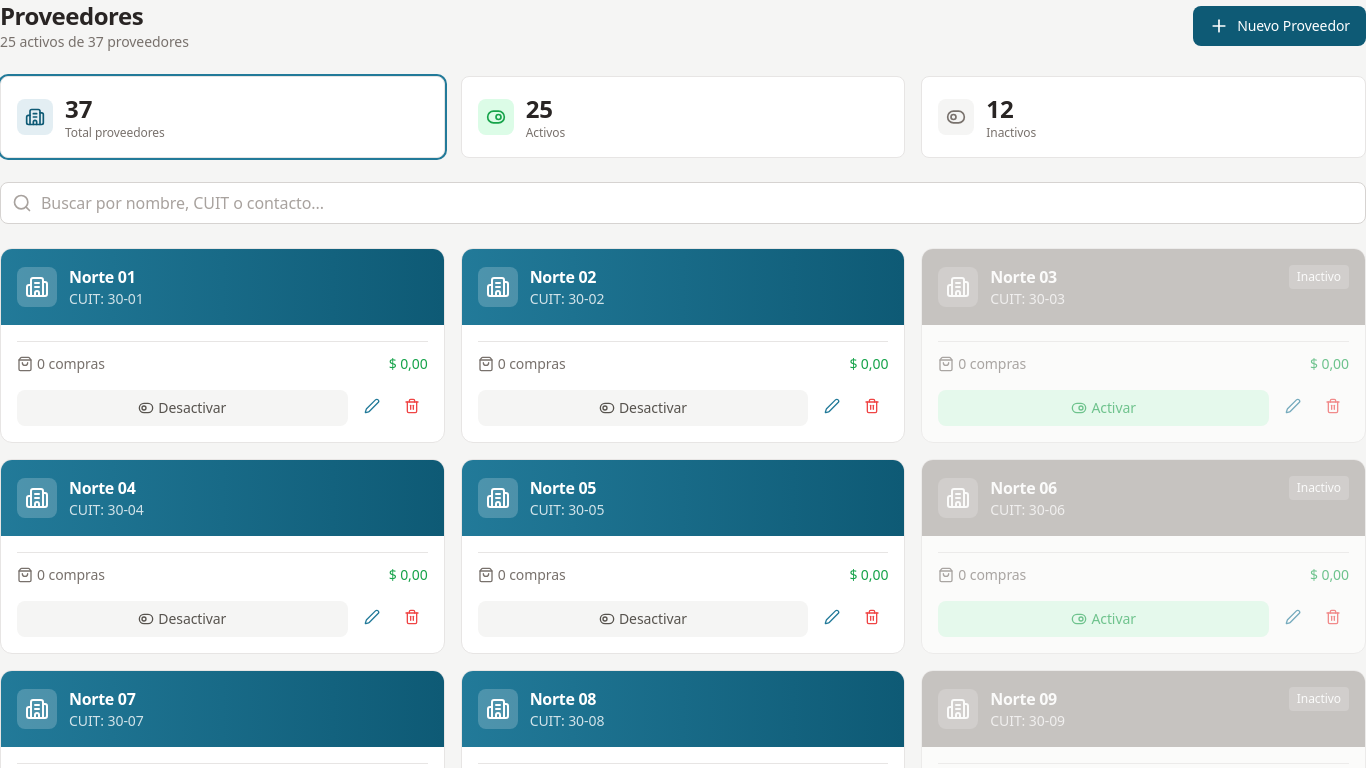
VistaProveedores — los filtros vuelven a la pagina 1 › "Total proveedores" desde la pagina 2 de otro filtro vuelve a la 1
What coordinates should you click on to do the following:
click the text "Activos"
I would click on:
 (545, 133)
Its box is [526, 125, 565, 141].
(page scrolled)
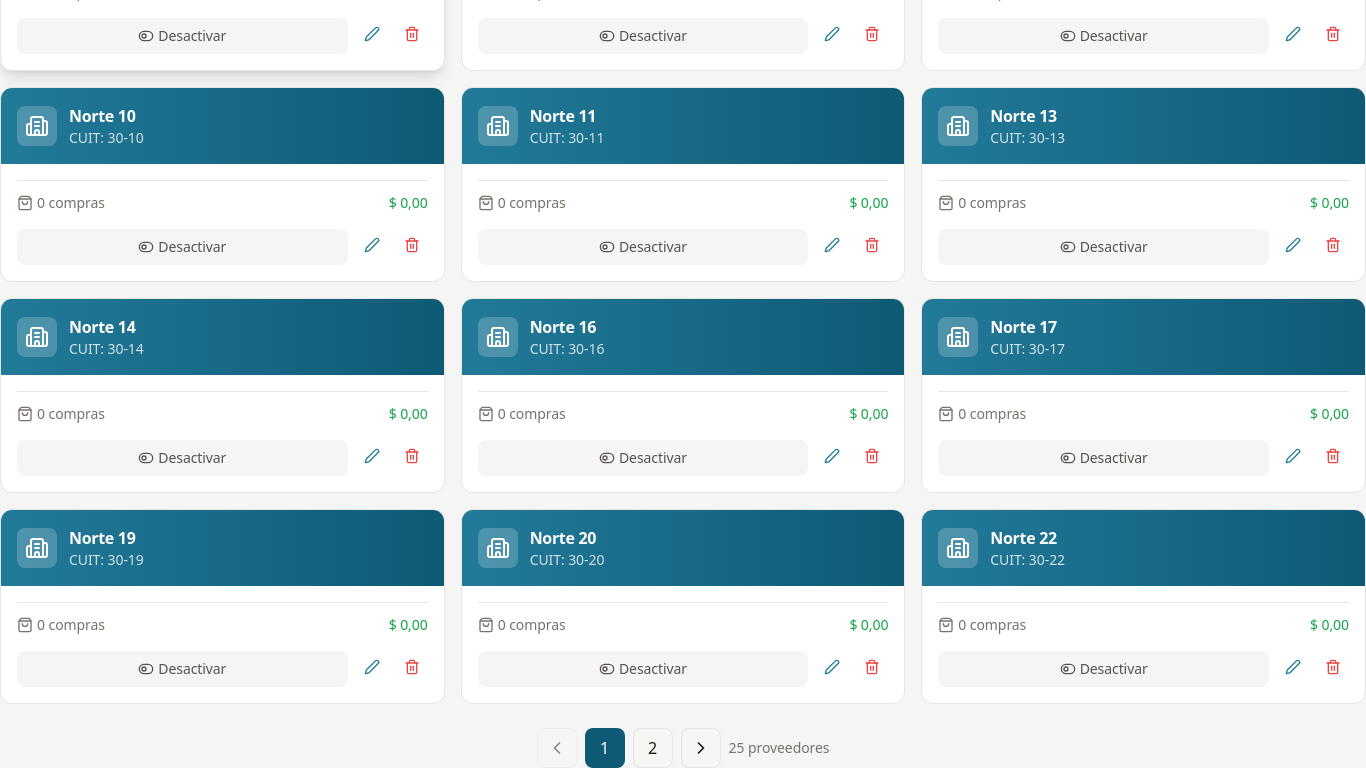
What coordinates should you click on to do the following:
click the button named "Página siguiente"
I would click on:
 (700, 748)
Its box is [680, 728, 720, 767].
(page scrolled)
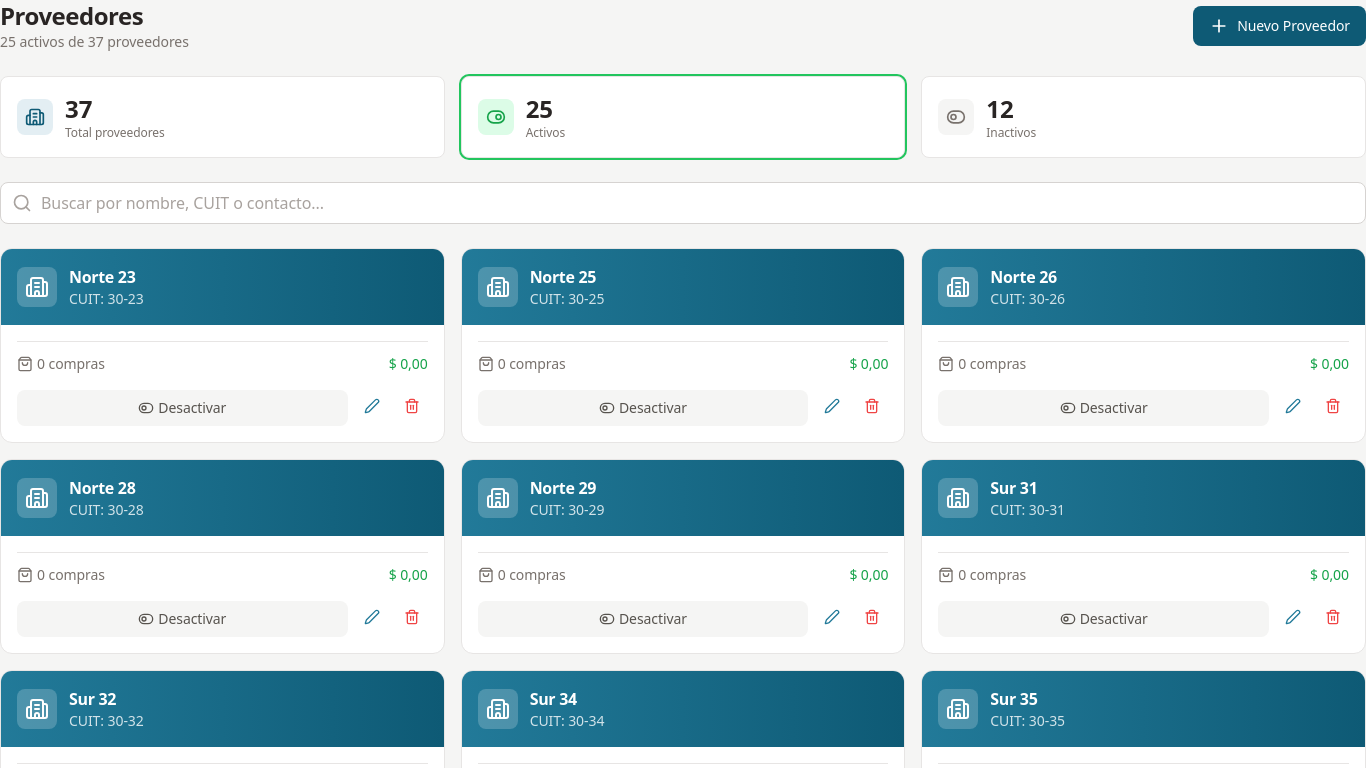
What coordinates should you click on to do the following:
click the text "Total proveedores"
I would click on:
 (115, 133)
Its box is [65, 125, 165, 141].
(page scrolled)
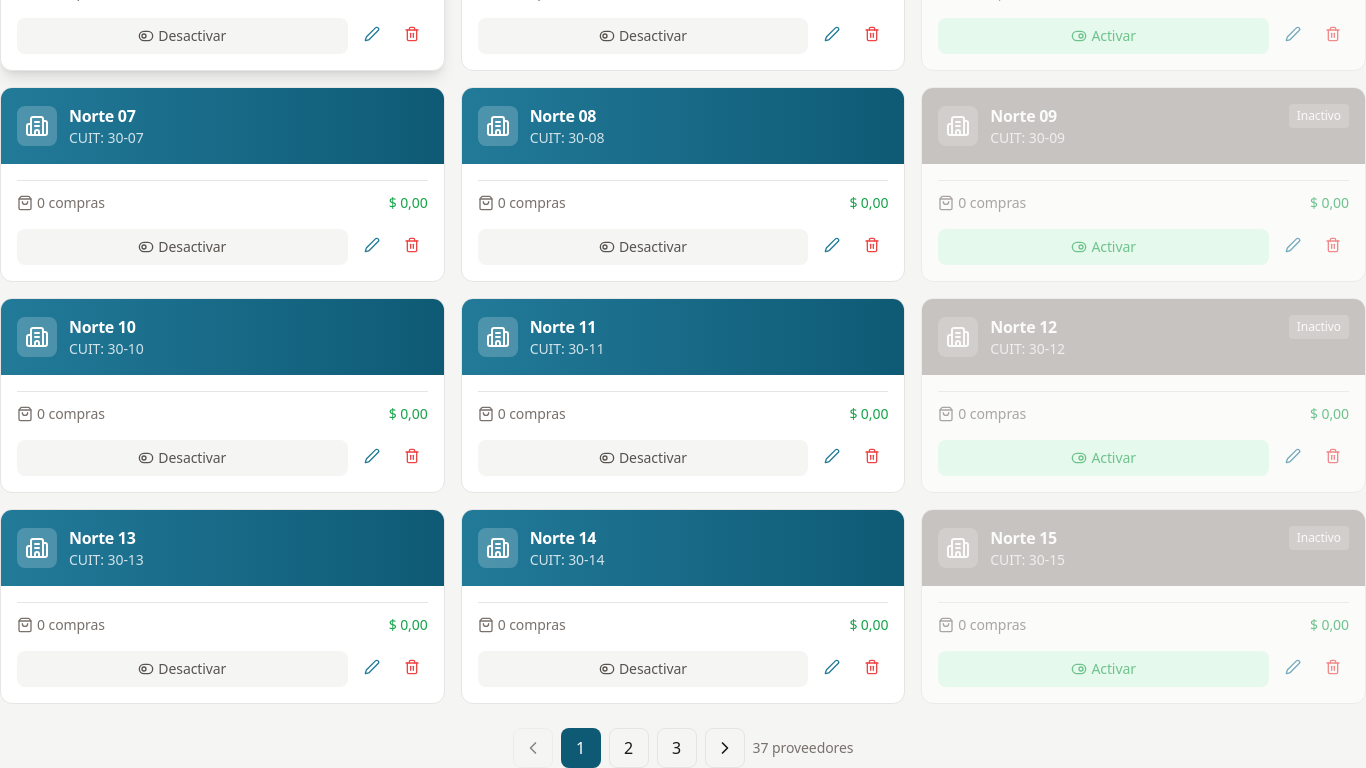
Now the button named "Página anterior" is disabled, box [512, 728, 552, 767]
Now the text "37 proveedores" is shown, box [752, 738, 853, 758]
